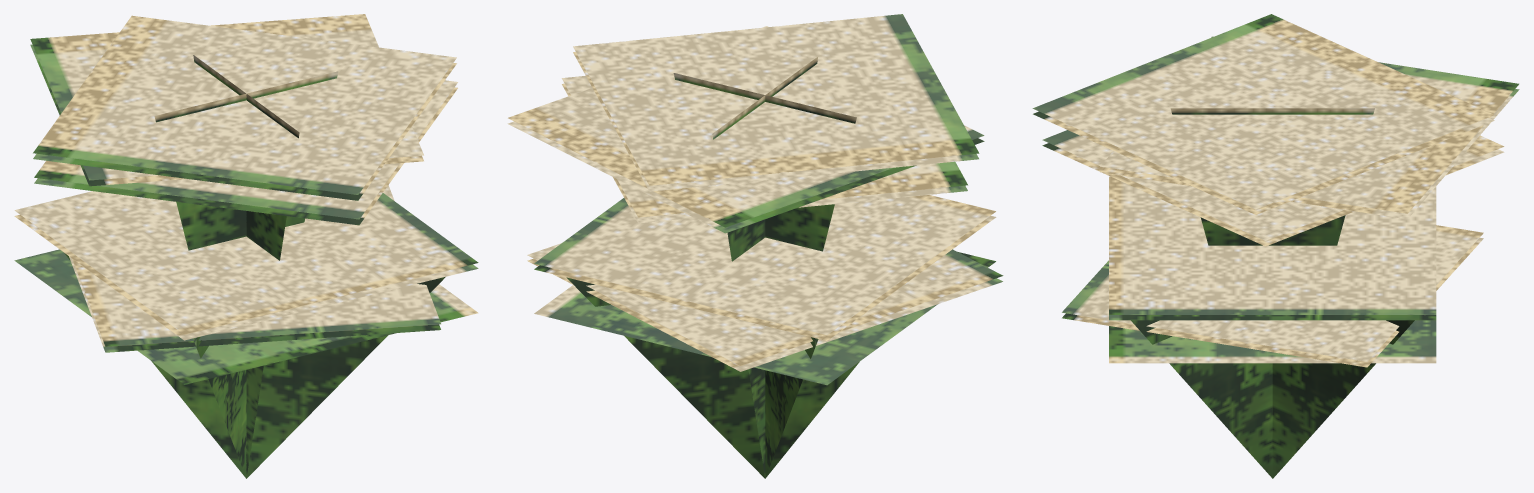
Rendered from watertorkruid_1.fbx.
The picture shows the model from 3 angles, left to right: view 1: azimuth 30°, elevation 25°; view 2: azimuth 150°, elevation 25°; view 3: azimuth 270°, elevation 25°; orthographic projection. The views are drawn at different scales.
Visible parts, largest first — view 1: watertorkruid; view 2: watertorkruid; view 3: watertorkruid.
Boxes of the visible parts, x1,y1,x2,y2 form: watertorkruid: (14,14,478,478); watertorkruid: (507,14,1003,478); watertorkruid: (1032,14,1519,478).
Size of the model in its own units: 459 by 400 by 476.
